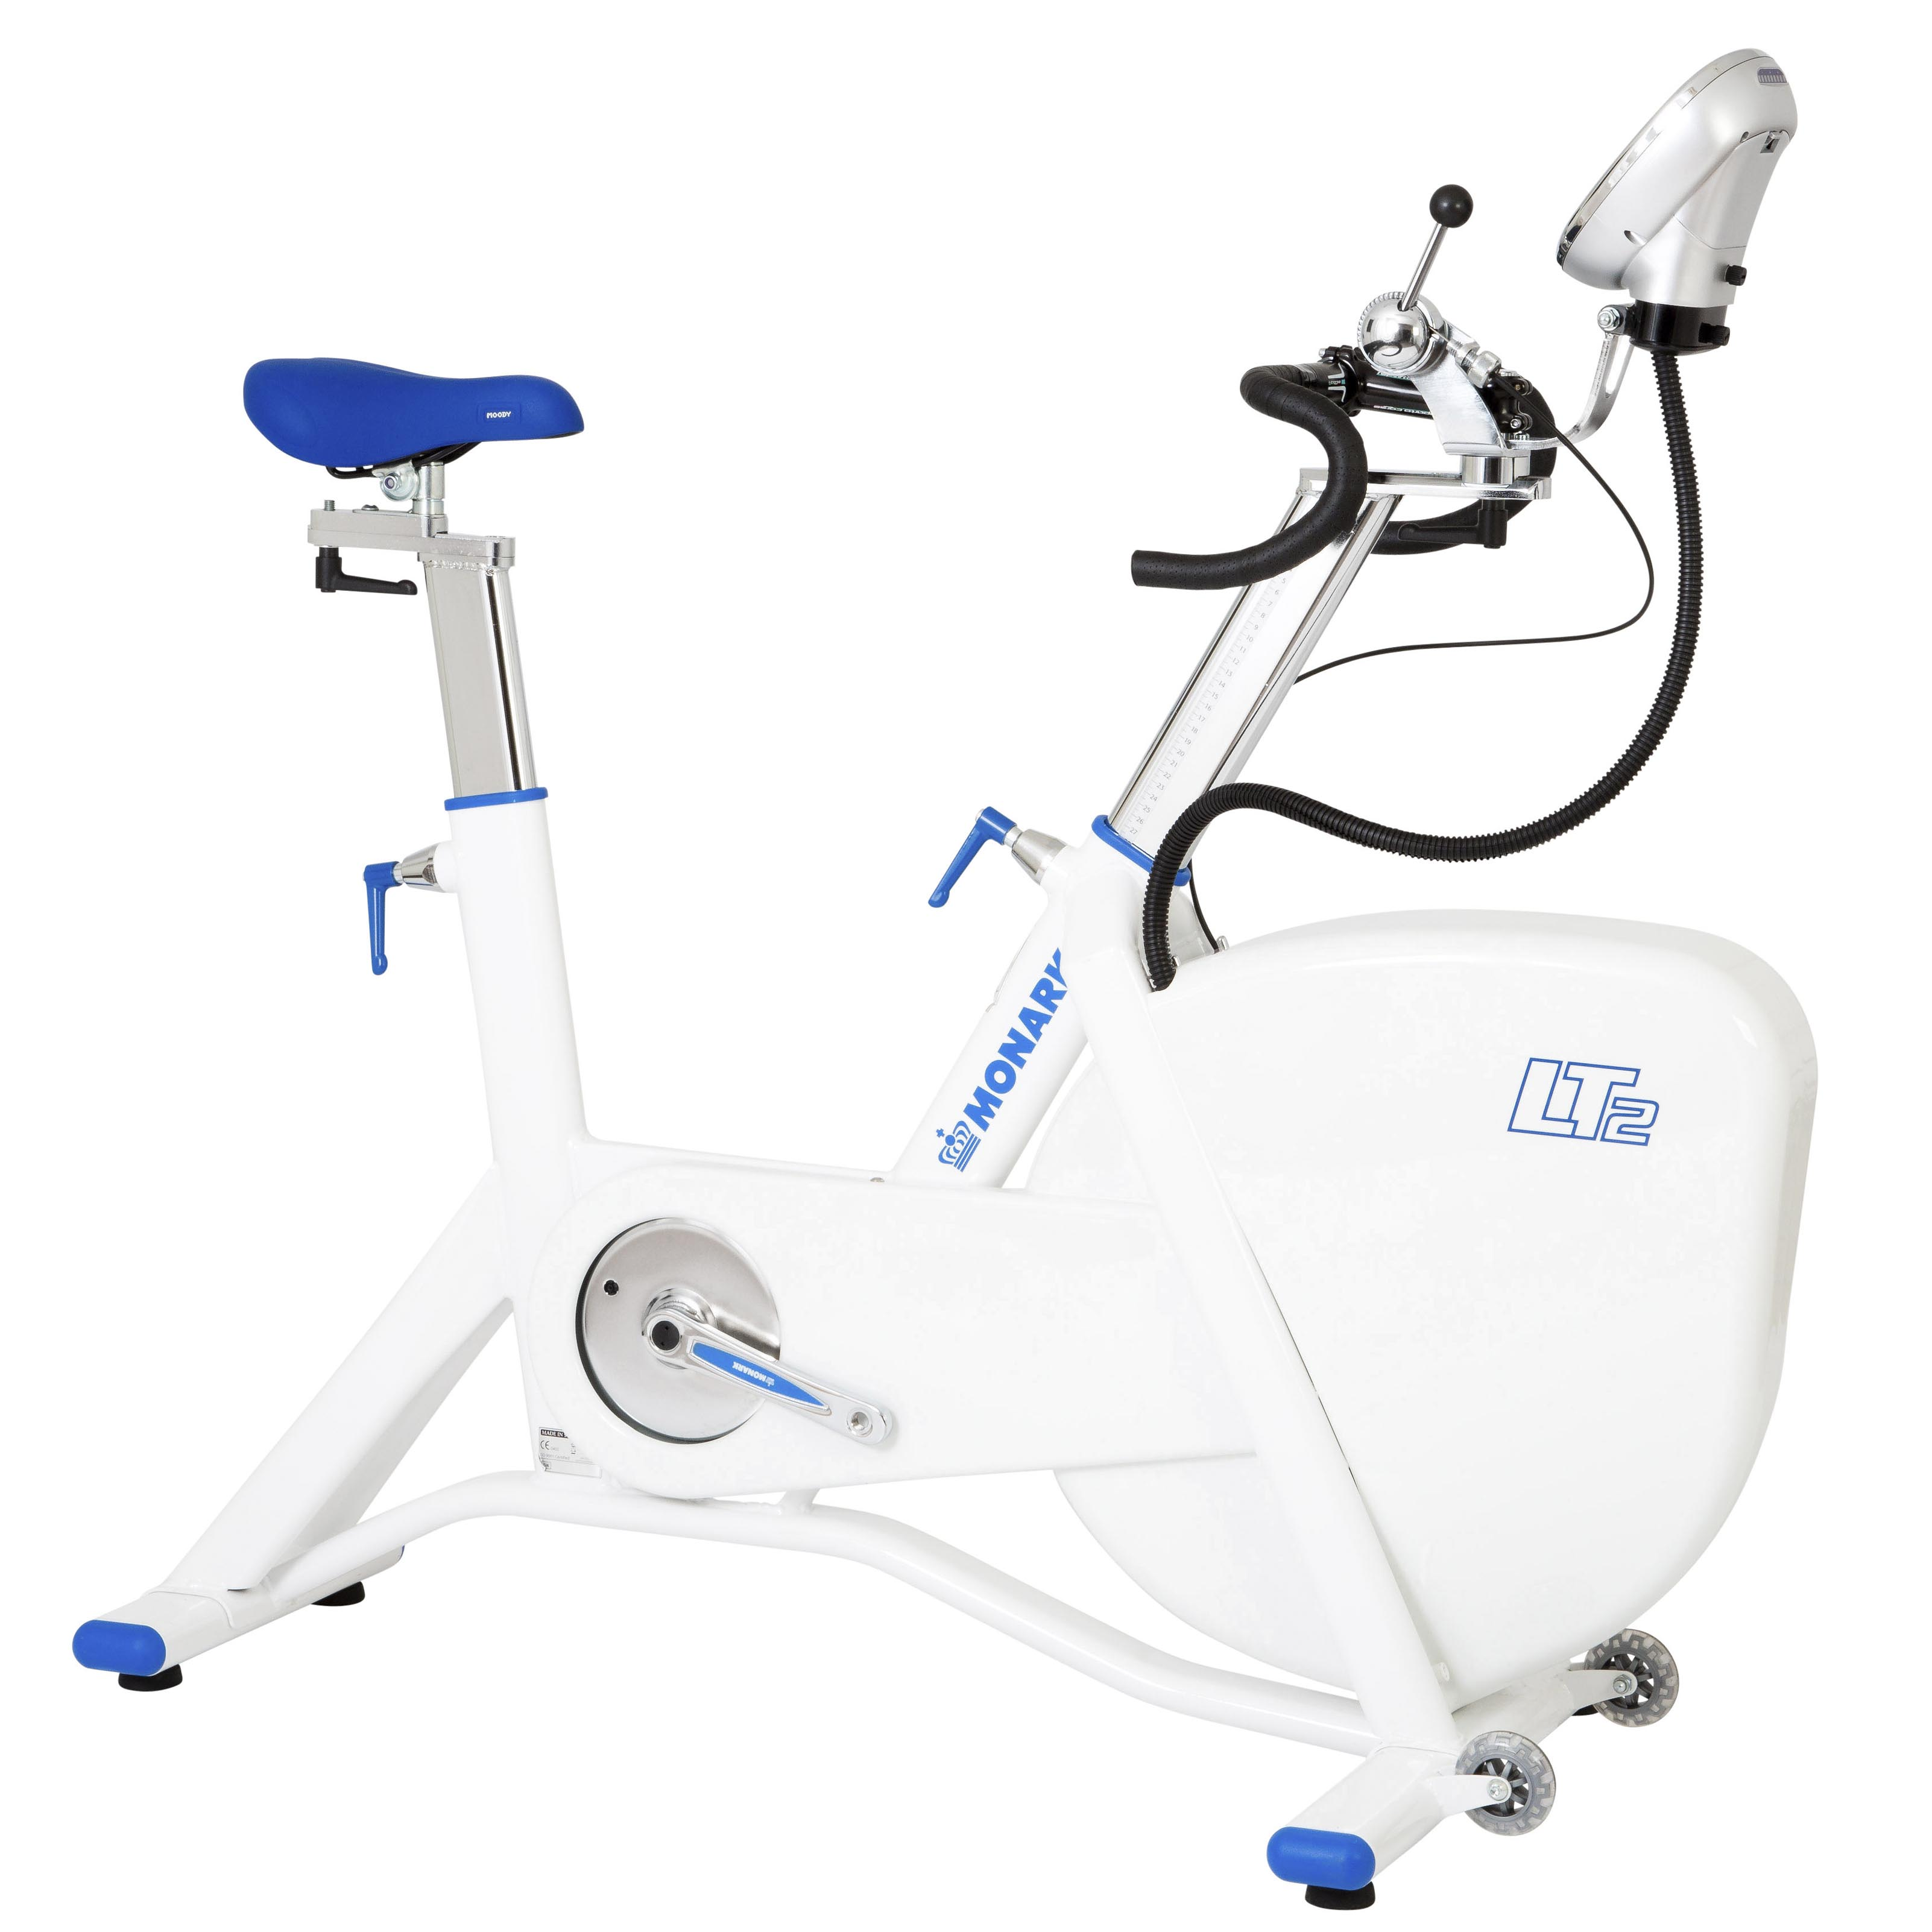gym_bike: (108, 127, 1836, 1914)
